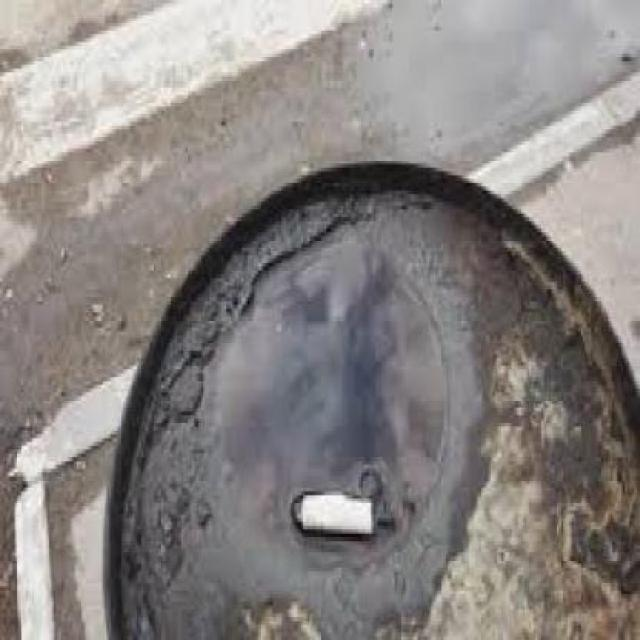cigarette: (290, 488, 387, 544)
